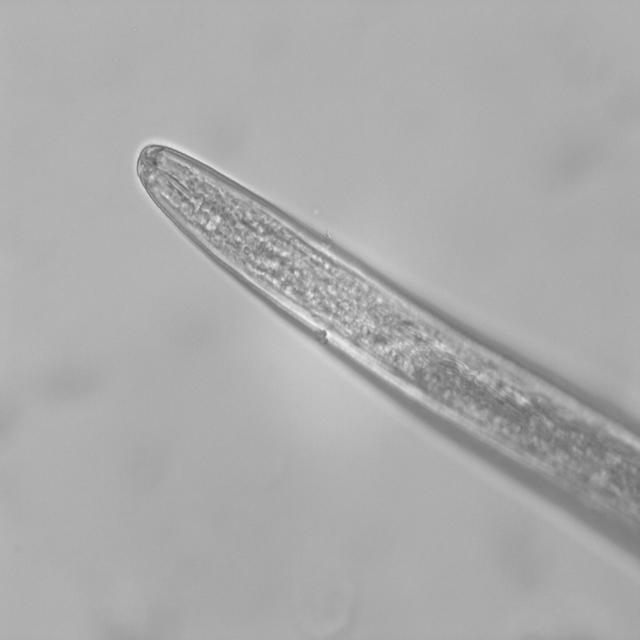Meloidogyne: (126, 138, 608, 486)
